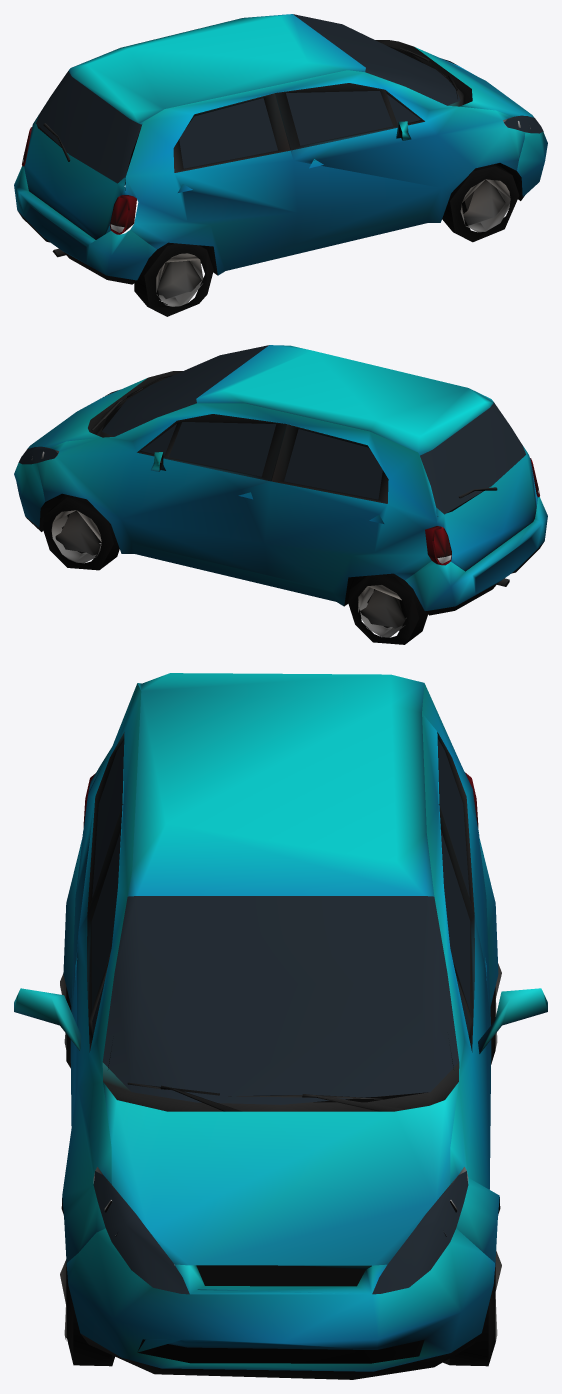
Rendered from compact.glb.
3 renders of one model, top to bottom at view 1: azimuth 30°, elevation 25°; view 2: azimuth 150°, elevation 25°; view 3: azimuth 270°, elevation 25°, orthographic. The views are drawn at different scales.
Parts seen in each view (by area): view 1: compact; view 2: compact; view 3: compact.
Boxes of the visible parts, x1,y1,x2,y2 form: compact: (14, 14, 547, 316); compact: (14, 345, 547, 644); compact: (14, 673, 547, 1379).
Bounding box in the file's own units: 4.6 × 1.83 × 2.27.
